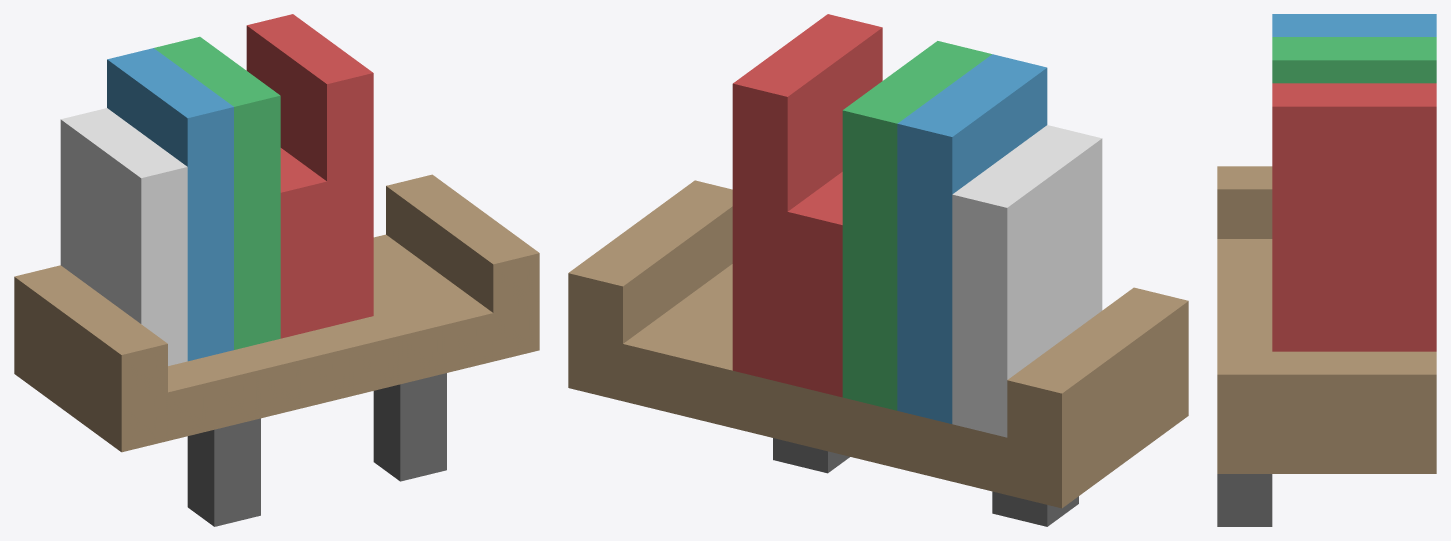
File: wall-book-shelf.fbx
The picture shows the model from 3 angles, left to right: view 1: azimuth 30°, elevation 25°; view 2: azimuth 150°, elevation 25°; view 3: azimuth 270°, elevation 25°; orthographic projection. The views are drawn at different scales.
Parts seen in each view (by area): view 1: Wall_Shelf; view 2: Wall_Shelf; view 3: Wall_Shelf.
Boxes of the visible parts, bbox=[...] form: Wall_Shelf: bbox=[14, 14, 539, 526]; Wall_Shelf: bbox=[568, 14, 1188, 526]; Wall_Shelf: bbox=[1217, 14, 1436, 526].
Size of the model in its own units: 135 by 120 by 60.
